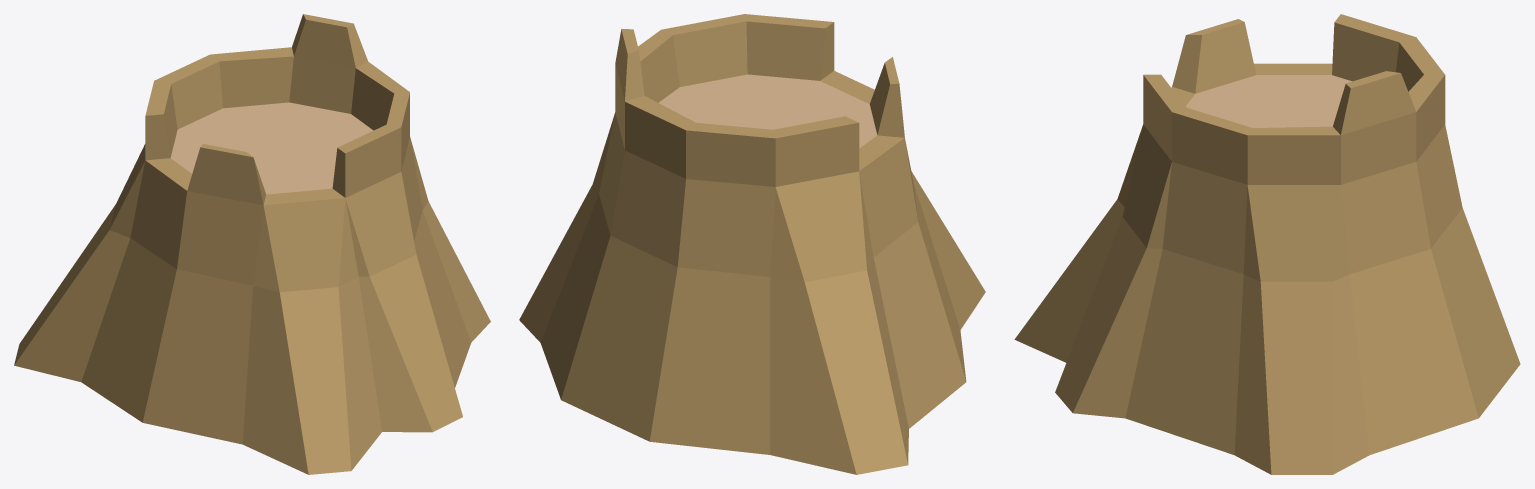
The model's file is Oak_Stump_05_LOD.fbx.
3 views of the same model, side by side, from view 1: azimuth 30°, elevation 25°; view 2: azimuth 150°, elevation 25°; view 3: azimuth 270°, elevation 25° (orthographic). The views are drawn at different scales.
Visible parts, largest first — view 1: Oak_Stump_05_LOD0; view 2: Oak_Stump_05_LOD0; view 3: Oak_Stump_05_LOD0.
Part boxes in pixels (x1=…): Oak_Stump_05_LOD0: x1=14, y1=14, x2=490, y2=474; Oak_Stump_05_LOD0: x1=519, y1=14, x2=985, y2=474; Oak_Stump_05_LOD0: x1=1014, y1=14, x2=1520, y2=474.
Size of what is drawn, in the model's own units: 142 by 101 by 139.
